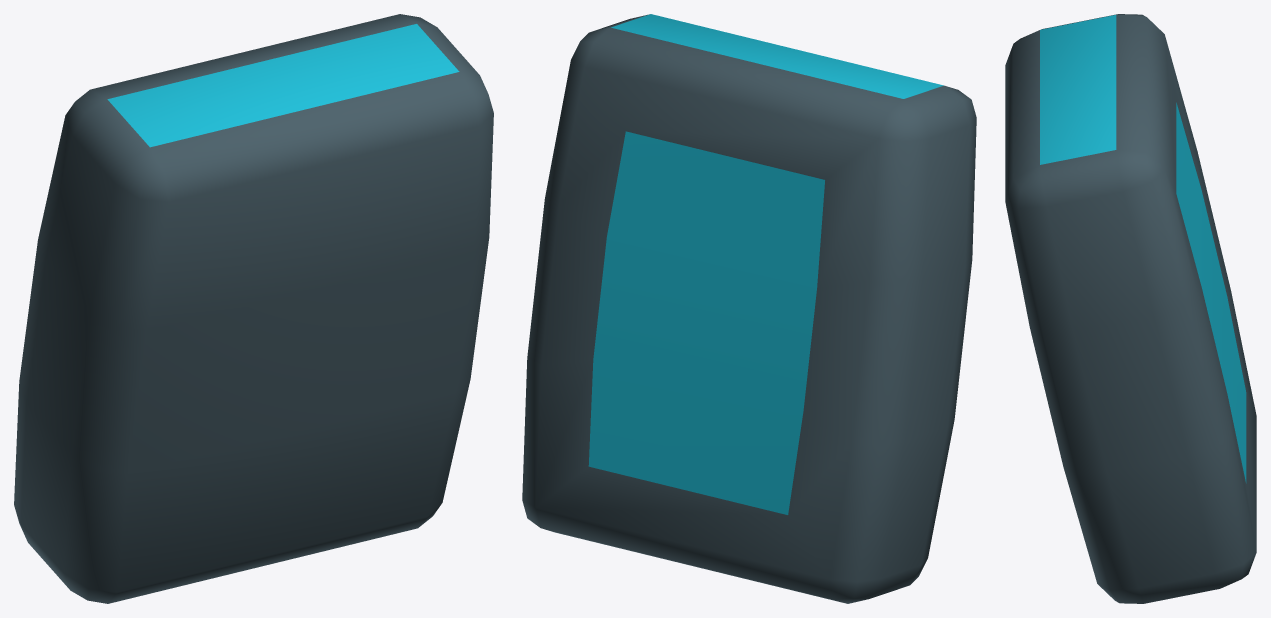
Rendered from GameConsole_03_Part_02.glb.
3 views of the same model, side by side, from view 1: azimuth 30°, elevation 25°; view 2: azimuth 150°, elevation 25°; view 3: azimuth 270°, elevation 25° (orthographic). The views are drawn at different scales.
Parts seen in each view (by area): view 1: GameConsole_03_Part_02; view 2: GameConsole_03_Part_02; view 3: GameConsole_03_Part_02.
Part boxes in pixels (x1,y1,x2,y2): GameConsole_03_Part_02: (14, 14, 493, 603); GameConsole_03_Part_02: (522, 14, 976, 603); GameConsole_03_Part_02: (1005, 14, 1256, 603).
Size of the model in its own units: 0.0626 by 0.0775 by 0.039.
1 material, 1 textured.
